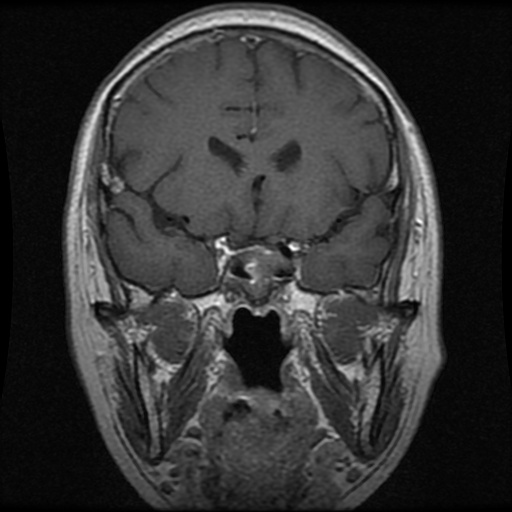pituitary: (218, 244, 298, 303)
